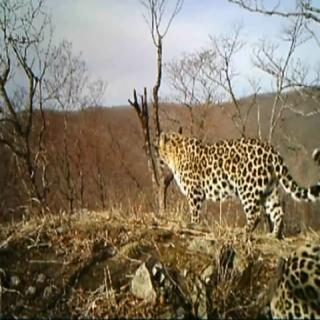Leopard: (156, 110, 320, 239)
